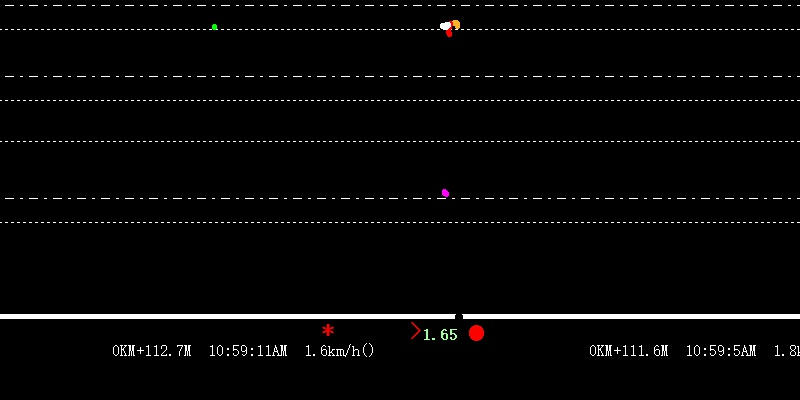circle: (466, 322, 486, 342)
face_1: (208, 19, 218, 35)
face_2: (440, 17, 462, 40)
star: (317, 321, 335, 338)
